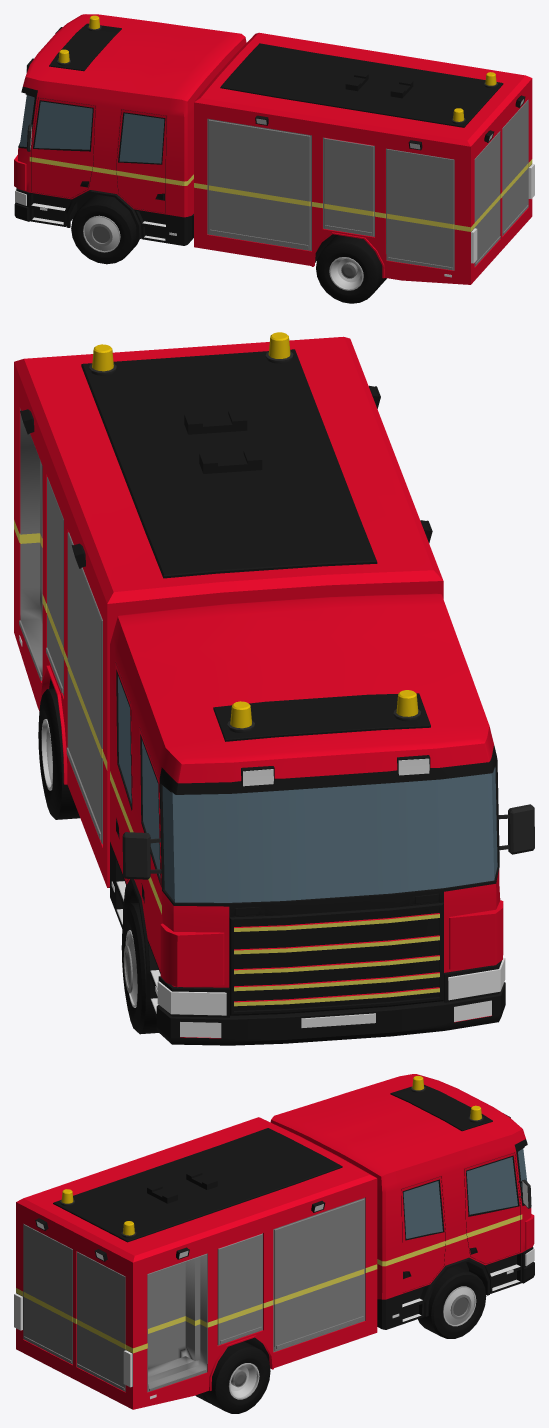
Rendered from CarroBomberos.fbx.
The picture shows the model from 3 angles, top to bottom: view 1: azimuth 30°, elevation 25°; view 2: azimuth 150°, elevation 25°; view 3: azimuth 270°, elevation 25°; orthographic projection. The views are drawn at different scales.
Parts seen in each view (by area): view 1: CarroBomberos; view 2: CarroBomberos; view 3: CarroBomberos.
Part boxes in pixels (<box>): CarroBomberos: <box>14,14,534,303</box>; CarroBomberos: <box>14,332,534,1045</box>; CarroBomberos: <box>14,1074,534,1413</box>.
Size of the model in its own units: 537 by 254 by 588.
